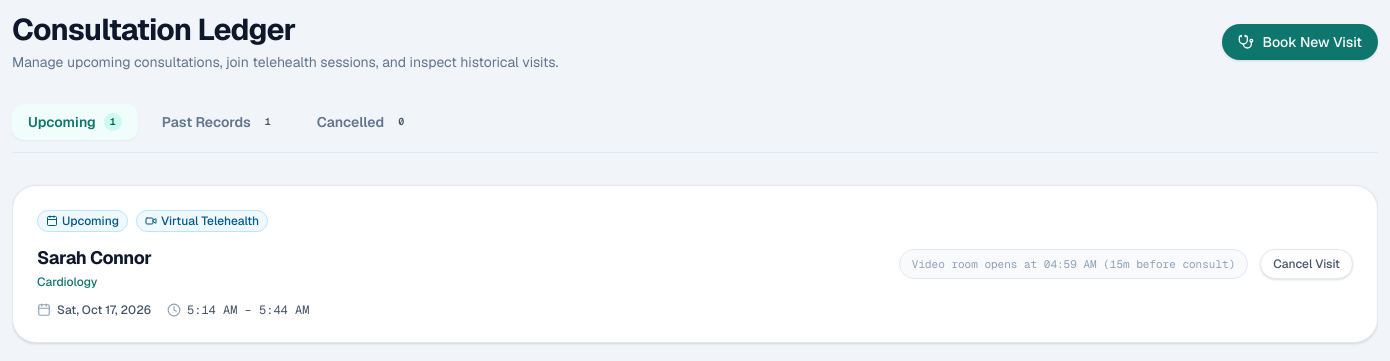
Scenario: AppointmentsList Component (Screen B5) › renders upcoming appointments and switches tabs
expect the heading "Sarah Connor" is shown: met, box left=37, top=246, right=151, bottom=269
expect the text "Cardiology" is shown: met, box left=37, top=274, right=97, bottom=290
Note: Switch to Past Records tab
What coordinates should you click on to do the following:
click the text "Past Records"
I would click on:
 (206, 122)
Its box is left=162, top=112, right=251, bottom=132.
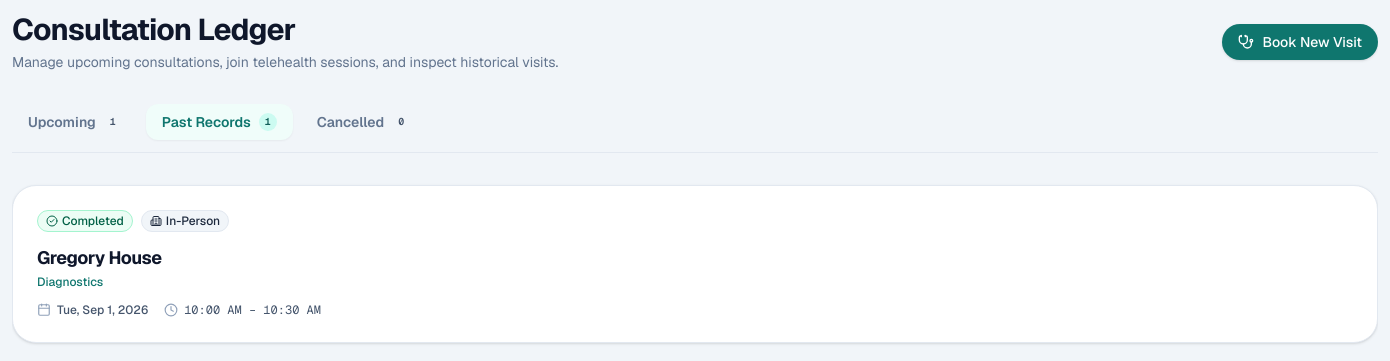
expect the heading "Gregory House" is shown: met, box left=37, top=246, right=162, bottom=269
expect the text "Diagnostics" is shown: met, box left=37, top=274, right=103, bottom=290
expect the button "Cancel Visit" is gone: met
